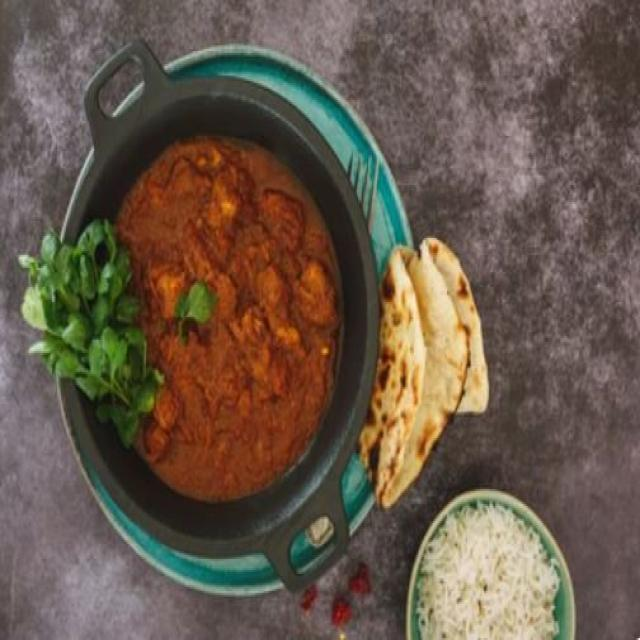kamouniya: (92, 101, 365, 486)
